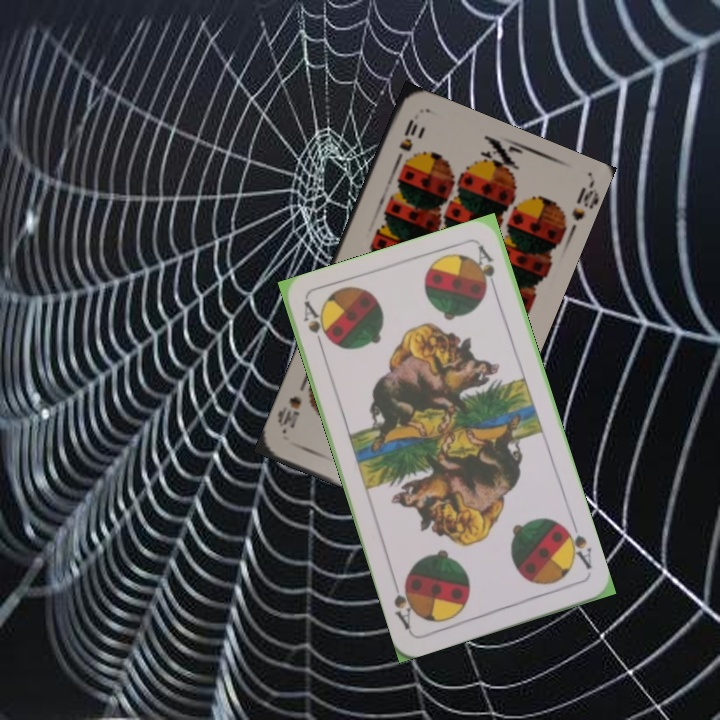S10: (390, 115, 421, 169)
SA: (299, 298, 332, 356), (558, 521, 595, 572)
